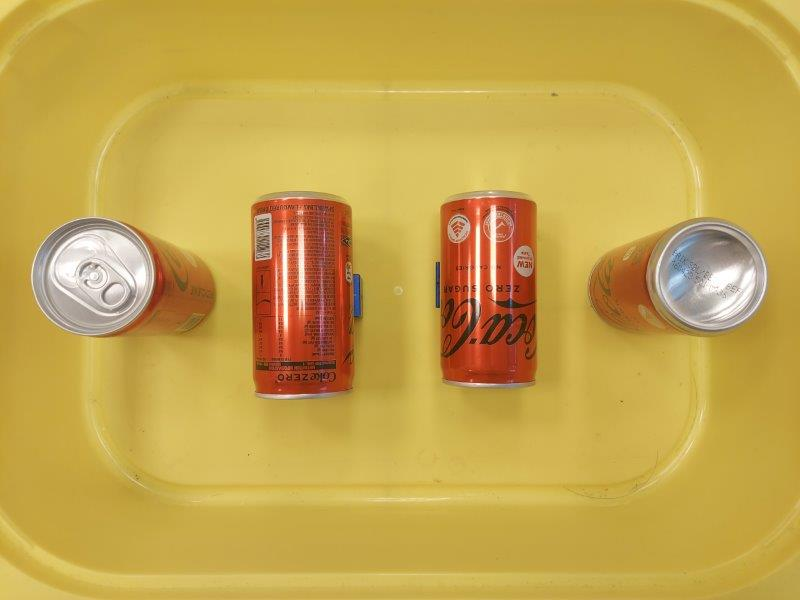Coke: (29, 218, 216, 337), (588, 218, 767, 336), (252, 193, 355, 397), (441, 189, 538, 386)
